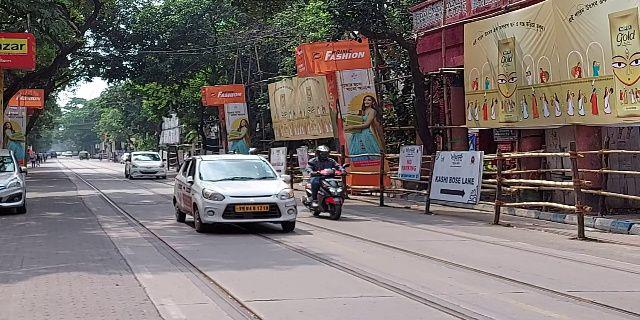Car: (169, 150, 301, 234), (1, 146, 29, 216), (121, 149, 167, 179)
Motorbike: (300, 143, 353, 223)
